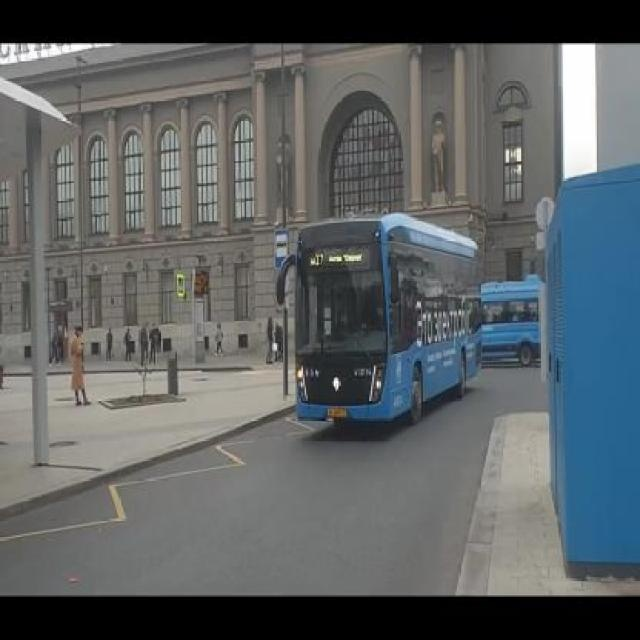Bus: (288, 212, 482, 428)
